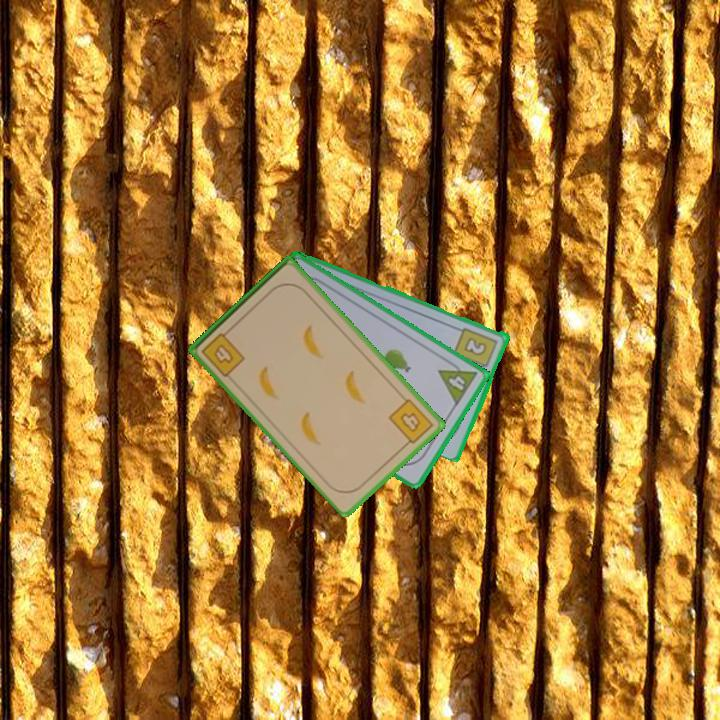2b: (451, 324, 501, 375)
4b: (385, 395, 436, 450), (198, 325, 248, 380)
4p: (435, 355, 480, 409)
